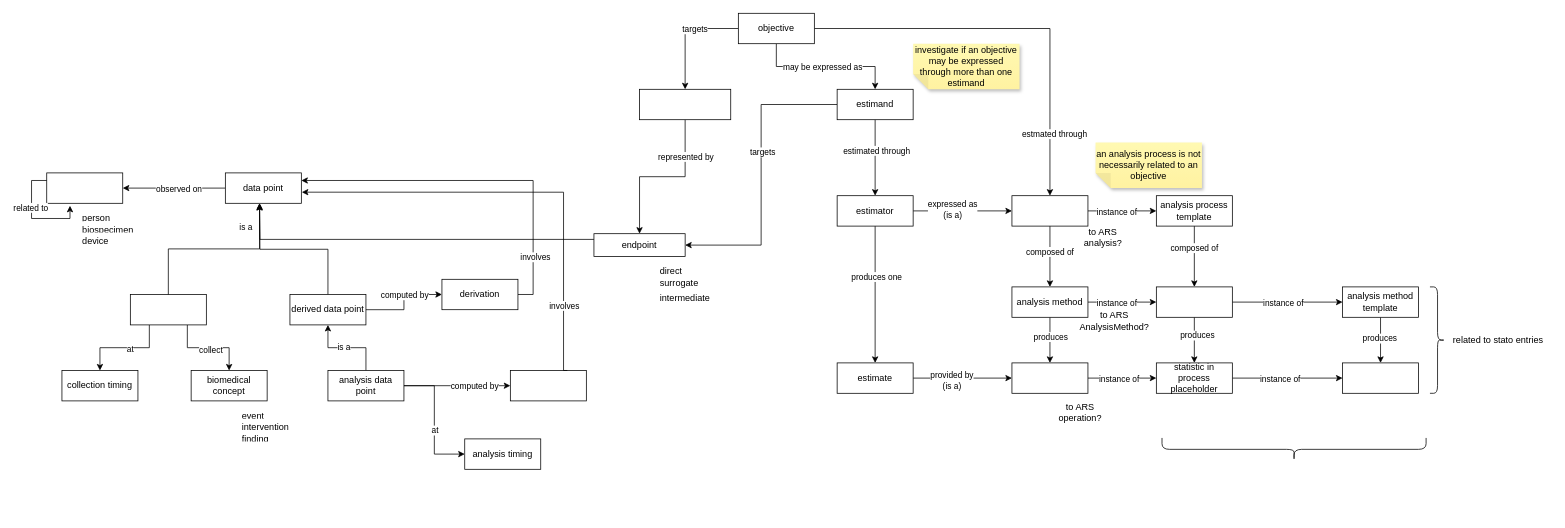
Some shapes in this 1565 by 528 pixel diagram are drawn without their labels. The shapes that lost their labels are listed below. From the top down, each one's centre as x and y in pixels, then its label:
point (685, 104): outcome of interrest
point (84, 187): entity
point (1049, 210): analysis process
point (168, 309): collected data point
point (1194, 301): analysis method in process template
point (548, 385): imputation
point (1049, 377): statistic
point (1380, 377): statistic placeholder
point (1293, 449): entries in reference library
